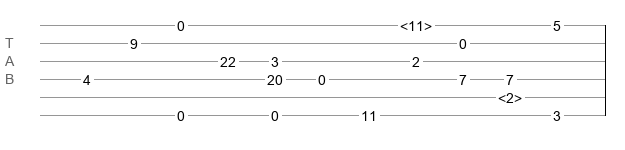0: (177, 108, 185, 118), (177, 18, 185, 28), (271, 108, 279, 118), (318, 72, 326, 82), (459, 36, 467, 46)
11: (361, 108, 377, 118)
2: (412, 54, 420, 64)
20: (267, 72, 283, 82)
22: (220, 54, 236, 64)
3: (271, 54, 279, 64), (553, 108, 561, 118)
4: (83, 72, 91, 82)
5: (553, 18, 561, 28)
7: (459, 72, 467, 82), (506, 72, 514, 82)
9: (130, 36, 138, 46)
harmonic: (400, 18, 432, 28), (498, 90, 522, 100)
